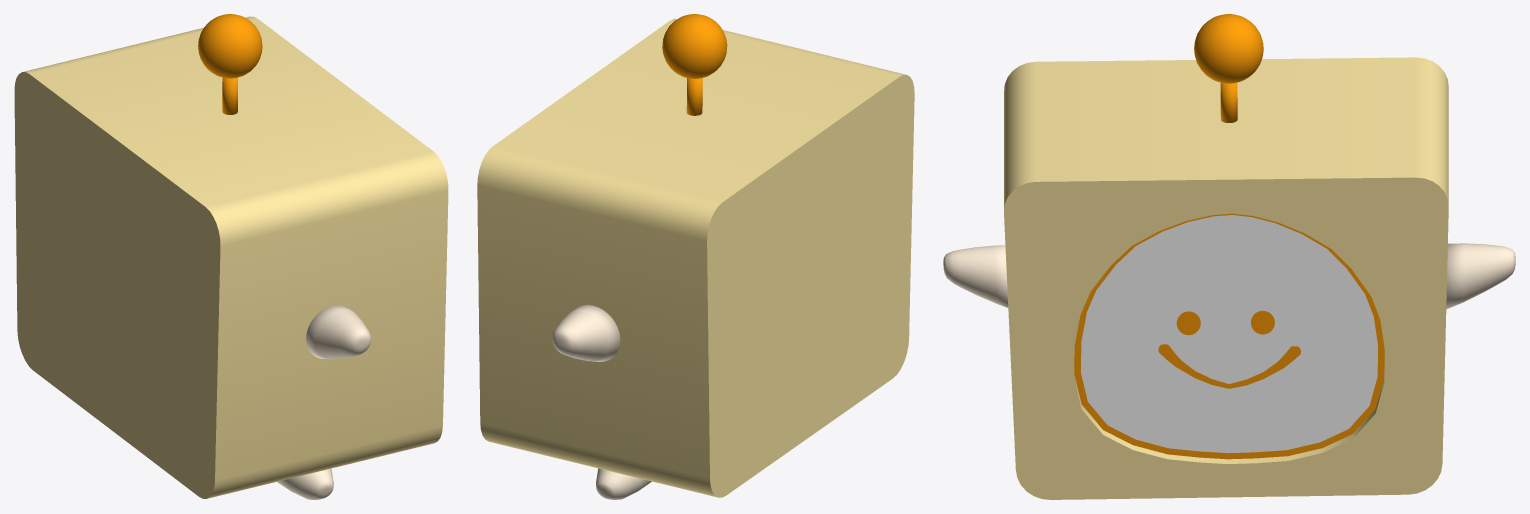
Rendered from GoKun.fbx.
3 views of the same model, side by side, from view 1: azimuth 30°, elevation 25°; view 2: azimuth 150°, elevation 25°; view 3: azimuth 270°, elevation 25° (orthographic). The views are drawn at different scales.
Visible parts, largest first — view 1: Body, HandFoot, Head; view 2: Body, HandFoot, Head; view 3: Body, Face, HandFoot, Head, EyeMouse.
Boxes of the visible parts, x1,y1,x2,y2 form: Body: [14, 16, 448, 498]; HandFoot: [277, 305, 370, 499]; Head: [198, 14, 262, 114]; Body: [477, 18, 914, 497]; HandFoot: [552, 305, 651, 499]; Head: [662, 14, 727, 115]; Body: [1004, 57, 1448, 499]; Face: [1074, 213, 1384, 459]; HandFoot: [943, 243, 1515, 309]; Head: [1194, 14, 1263, 122]; EyeMouse: [1158, 310, 1300, 388].
Size of the model in its own units: 61.19 by 108 by 123.
